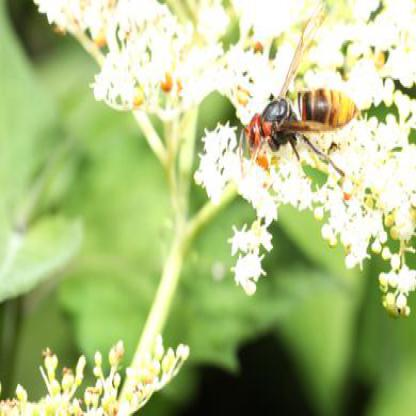Asian Hornet: (240, 3, 360, 176)
